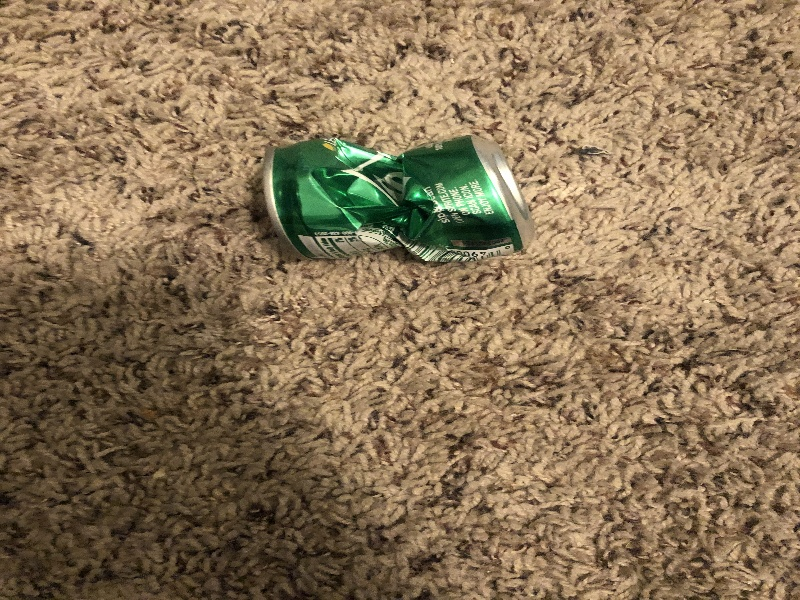metal: (261, 133, 541, 270)
